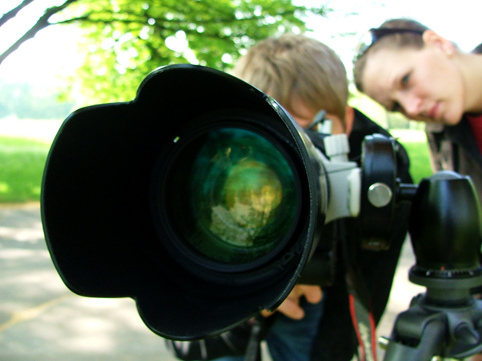person: (175, 37, 417, 361)
